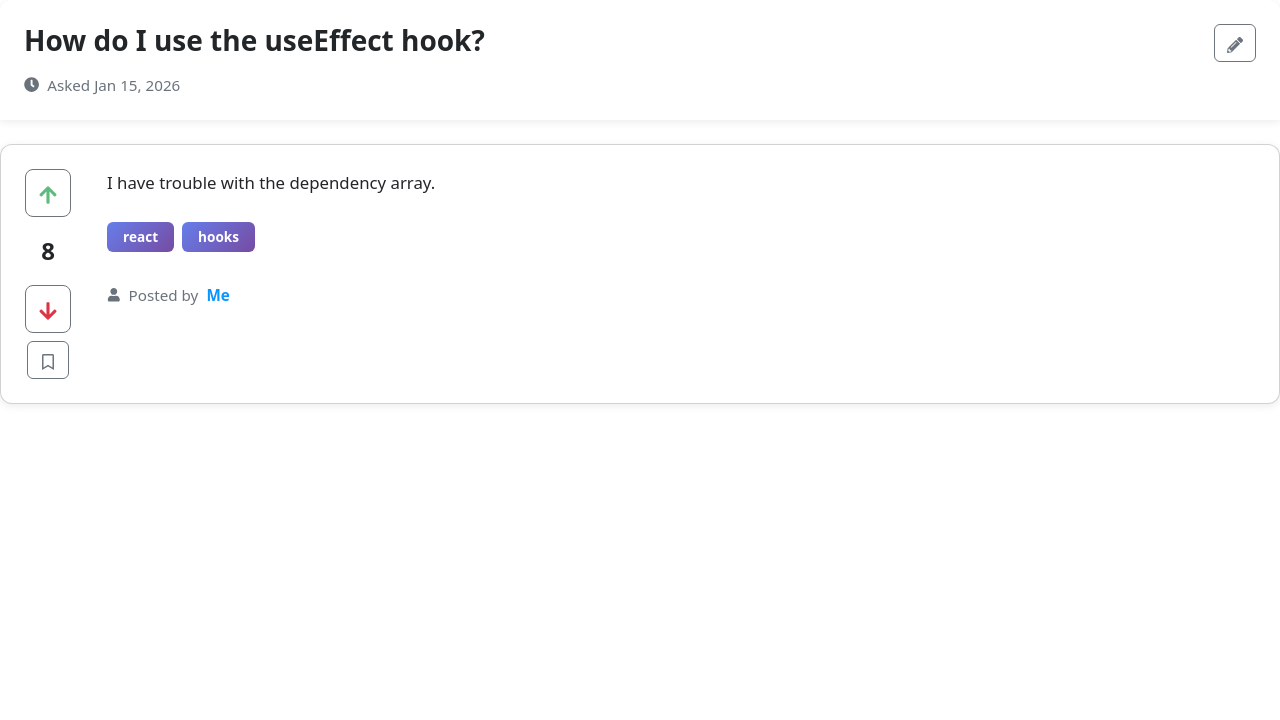
Test: QuestionContent Component › Edit affordance › clicking the pencil shows a form pre-filled with the current content
What coordinates should you click on to do the following:
click the button named "edit"
I would click on:
 (1235, 43)
Its box is [1214,24,1256,62].
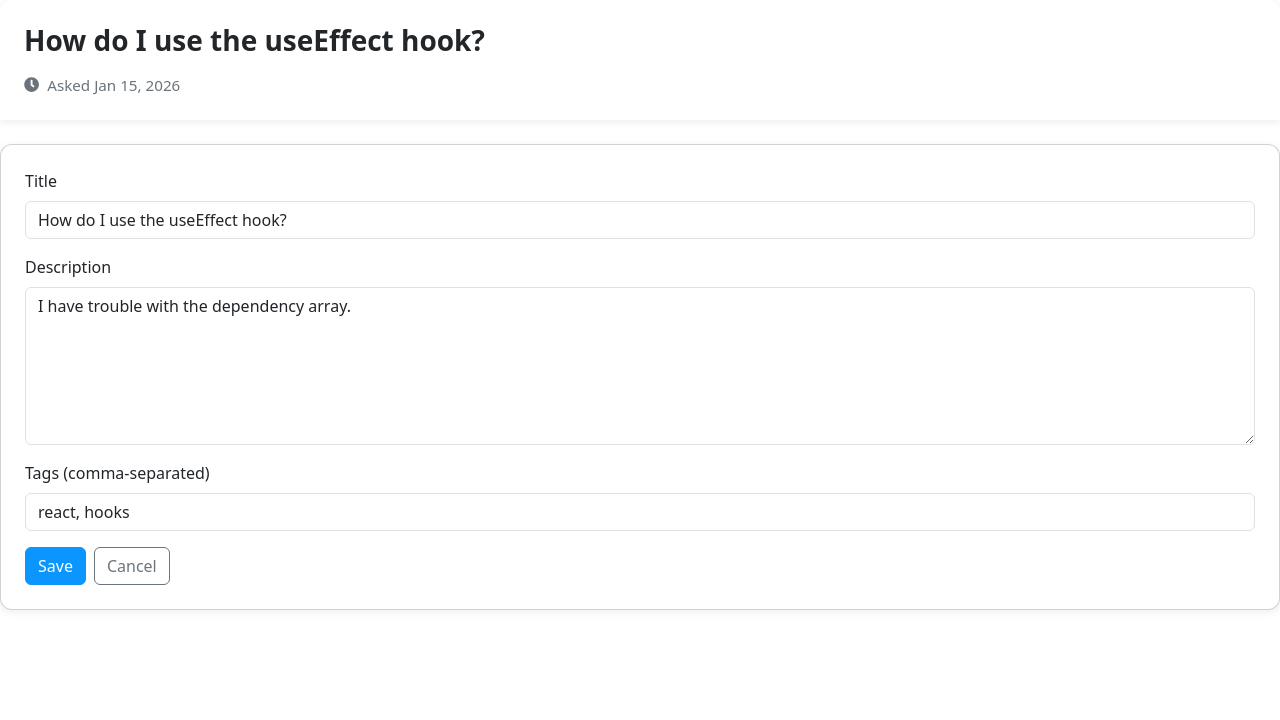
Result: the field labelled "Title" holds "How do I use the useEffect hook?" at [25,201,1255,239]
Result: the text box labelled "Description" holds "I have trouble with the dependency array." at [25,287,1255,445]
Result: the field labelled "Tags (comma-separated)" holds "react, hooks" at [25,493,1255,531]
